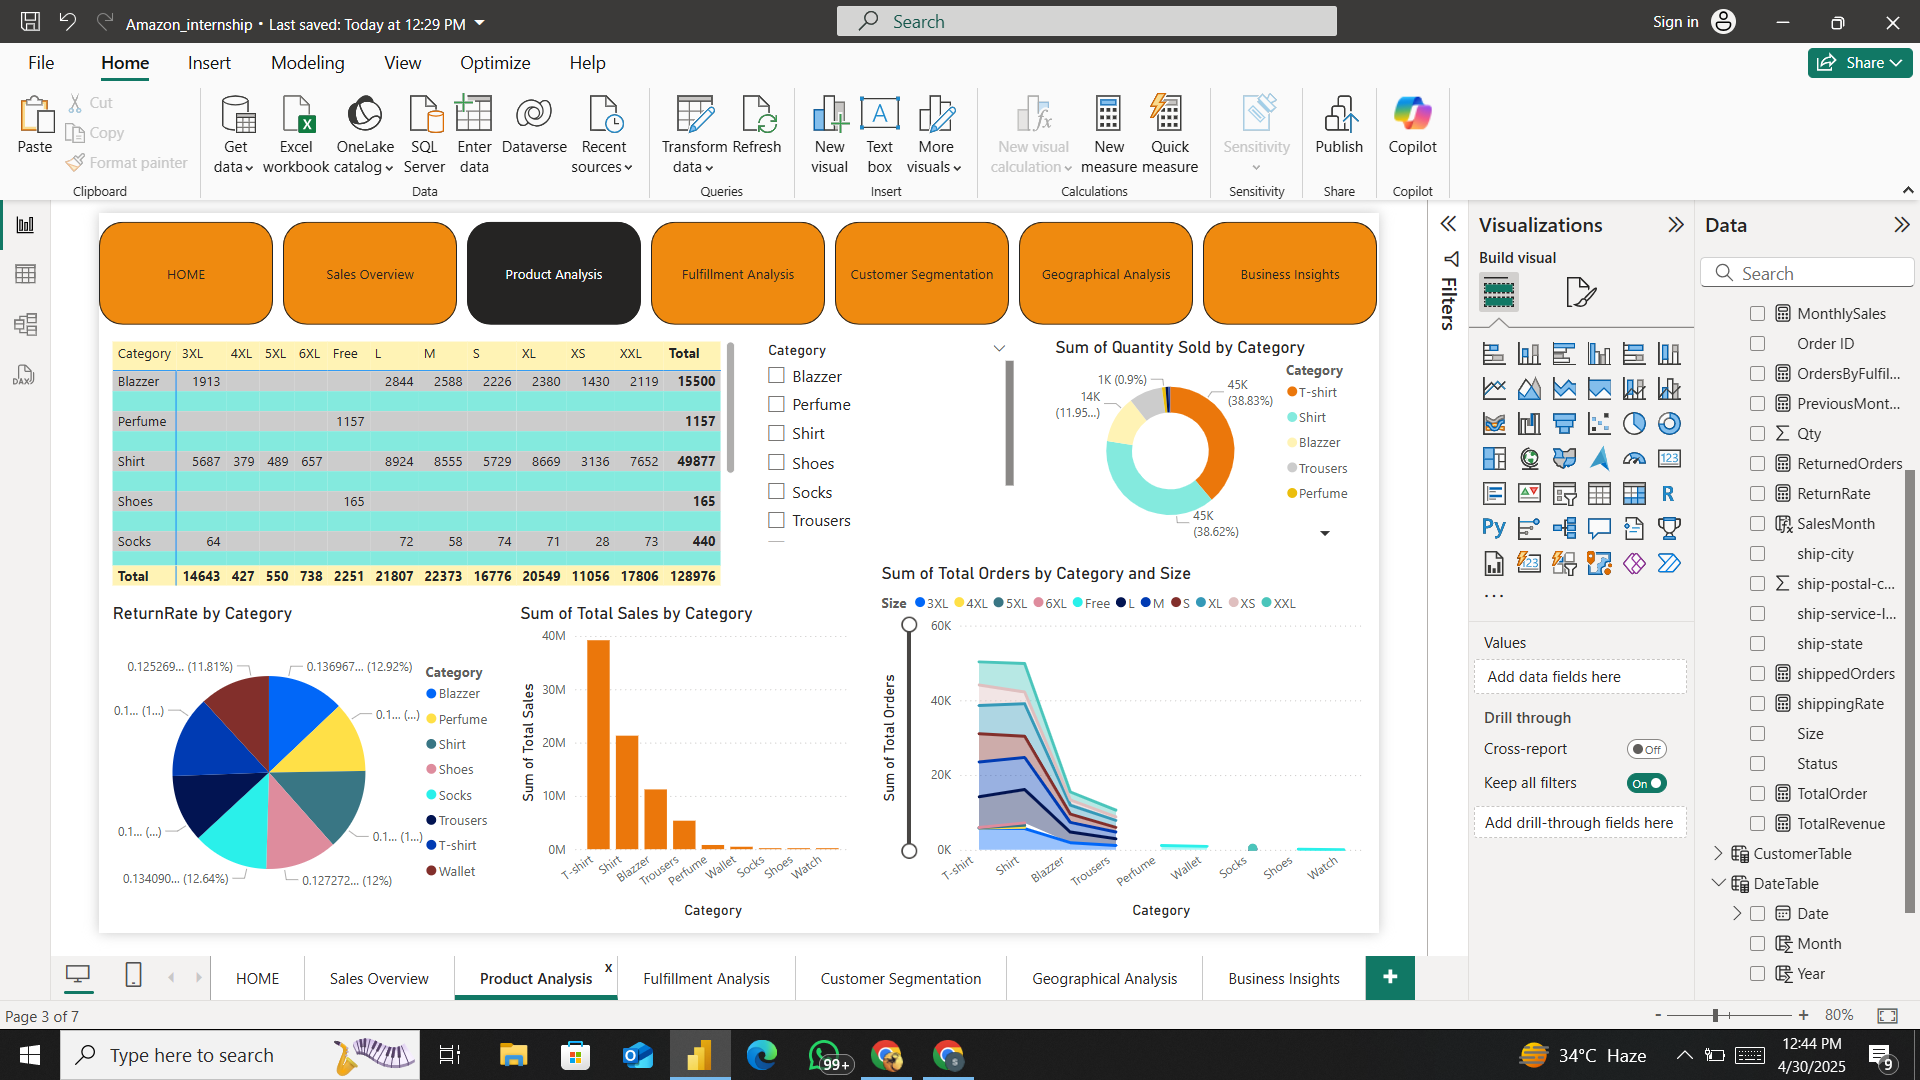

What the dashboard file says about the page in this screenshot:
{"tool":"powerbi","page":{"name":"Product Analysis","canvas":[1280,720],"ordinal":2},"visuals":[{"type":"stackedAreaChart","fields":{"Category":["DemandingSize.Category"],"Series":["DemandingSize.Size"],"Y":["Sum(DemandingSize.Total Orders)"]},"box":[777.4,350,490.5,360.7],"z":1000},{"type":"pivotTable","fields":{"Rows":["DemandingSize.Category"],"Columns":["DemandingSize.Size"],"Values":["Sum(DemandingSize.Total Orders)"]},"box":[8.3,123.8,632.1,253.6],"z":2000},{"type":"pieChart","fields":{"Y":["cleaned_amazon_sales.ReturnRate"],"Series":["cleaned_amazon_sales.Category"]},"box":[8.3,390.5,398.8,320.2],"z":3000},{"type":"columnChart","fields":{"Category":["SalesByCategory.Category"],"Y":["Sum(SalesByCategory.Total Sales)"]},"box":[416.7,390.5,340.5,320.2],"z":4000},{"type":"donutChart","fields":{"Category":["TopProducts.Category"],"Y":["Sum(TopProducts.Quantity Sold)"]},"box":[951.2,123.8,316.7,209.5],"z":5000},{"type":"slicer","fields":{"Values":["cleaned_amazon_sales.Category"]},"box":[656,123.8,263.1,209.5],"z":6000},{"type":"pageNavigator","box":[0,8.3,1279.8,103.6],"z":6001}]}

Visuals, with their boxes on the page's 1280x720 design canvas (x1, y1, x2, y2). These are canvas units, not pixel positions in the 1920x1080 screenshot, which may show the page scaled, cropped or inside an application window:
stackedAreaChart - DemandingSize.Category x DemandingSize.Size: {"left": 777, "top": 350, "right": 1268, "bottom": 711}
pivotTable - DemandingSize.Category x DemandingSize.Size: {"left": 8, "top": 124, "right": 640, "bottom": 377}
pieChart - cleaned_amazon_sales.ReturnRate x cleaned_amazon_sales.Category: {"left": 8, "top": 390, "right": 407, "bottom": 711}
columnChart - SalesByCategory.Category x Sum(SalesByCategory.Total Sales): {"left": 417, "top": 390, "right": 757, "bottom": 711}
donutChart - TopProducts.Category x Sum(TopProducts.Quantity Sold): {"left": 951, "top": 124, "right": 1268, "bottom": 333}
slicer - cleaned_amazon_sales.Category: {"left": 656, "top": 124, "right": 919, "bottom": 333}
pageNavigator: {"left": 0, "top": 8, "right": 1280, "bottom": 112}
